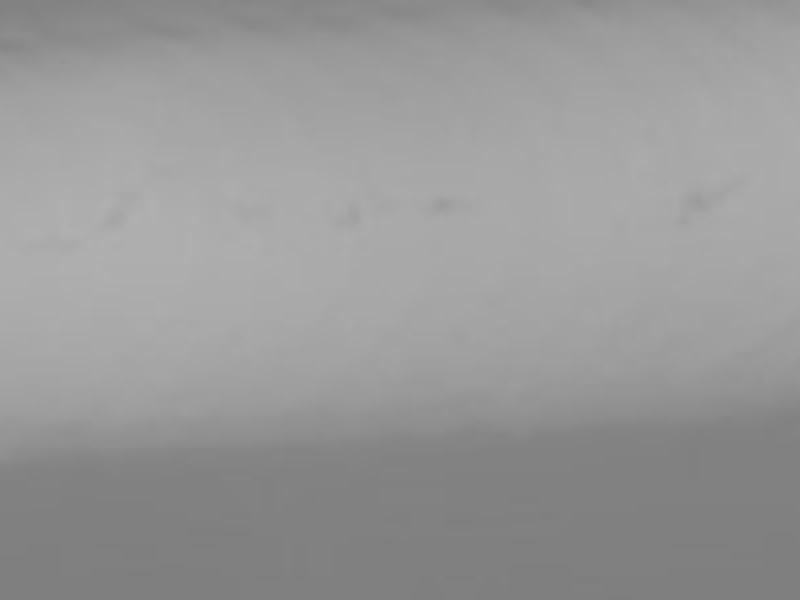defect: (678, 187, 714, 217), (340, 203, 362, 228), (101, 208, 124, 230), (431, 193, 453, 214)
